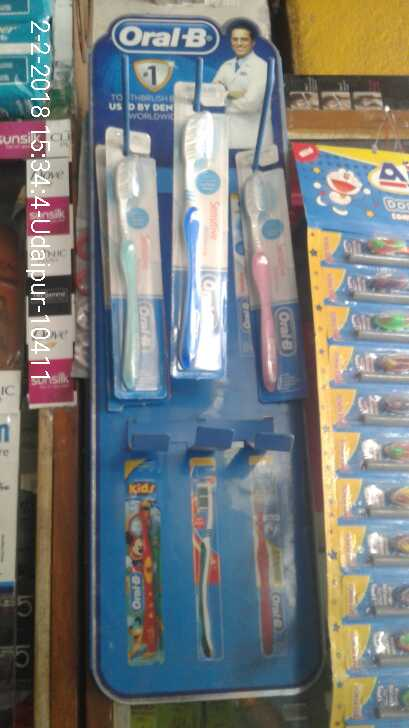oralb: (102, 129, 169, 398), (239, 139, 303, 403), (172, 96, 231, 374)
